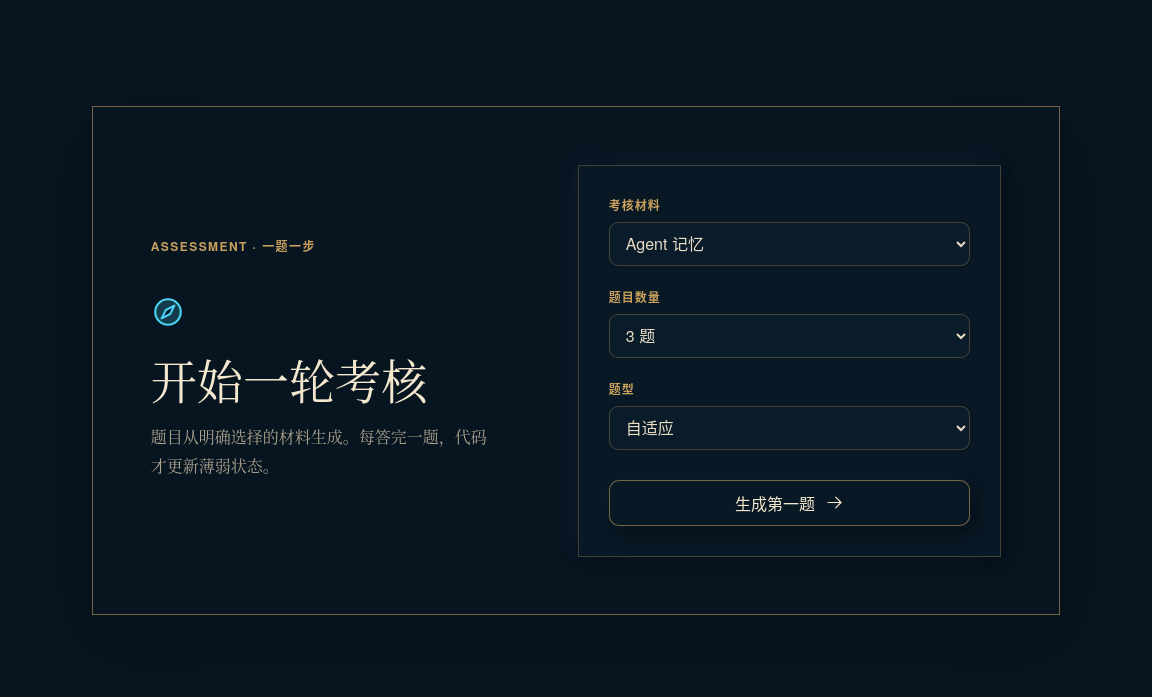
Test: Assessment Workspace › reveals grounded evidence and completes one question
Expected: the heading "开始一轮考核" is shown, top-left (151, 346), bottom-right (427, 412)
Click the button "生成第一题" at [790, 503], box top-left (609, 480), bottom-right (970, 526)
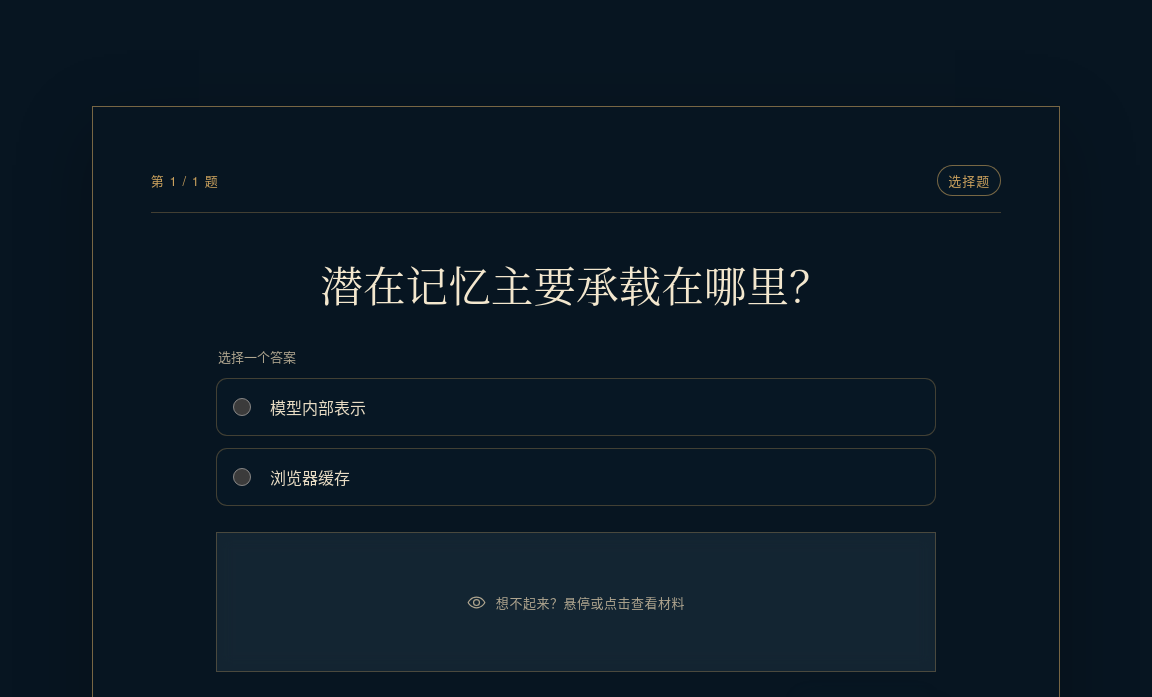
Now the heading "潜在记忆主要承载在哪里？" is shown, box top-left (320, 253), bottom-right (832, 314)
Hover over the button with aria-label "揭示本题材料证据" at [576, 602], box top-left (217, 533), bottom-right (935, 671)
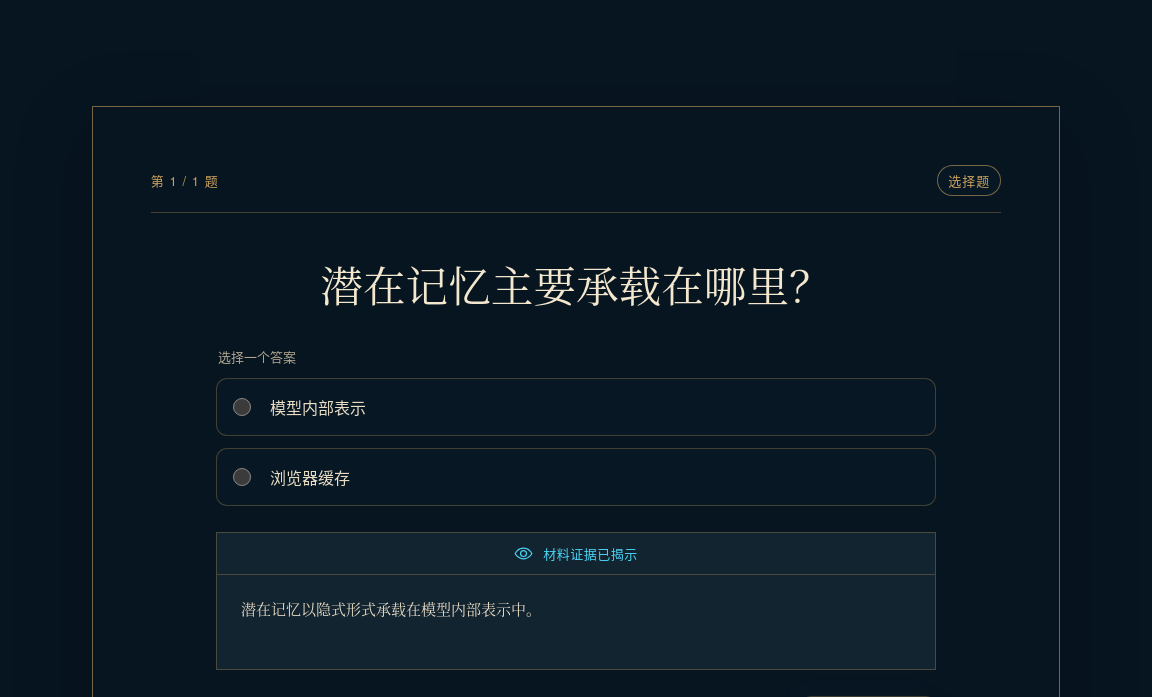
Now the text "潜在记忆以隐式形式承载在模型内部表示中。" is shown, box top-left (241, 598), bottom-right (541, 619)
Click the radio button labelled "模型内部表示" at [242, 407], box top-left (233, 398), bottom-right (251, 416)
(page scrolled)
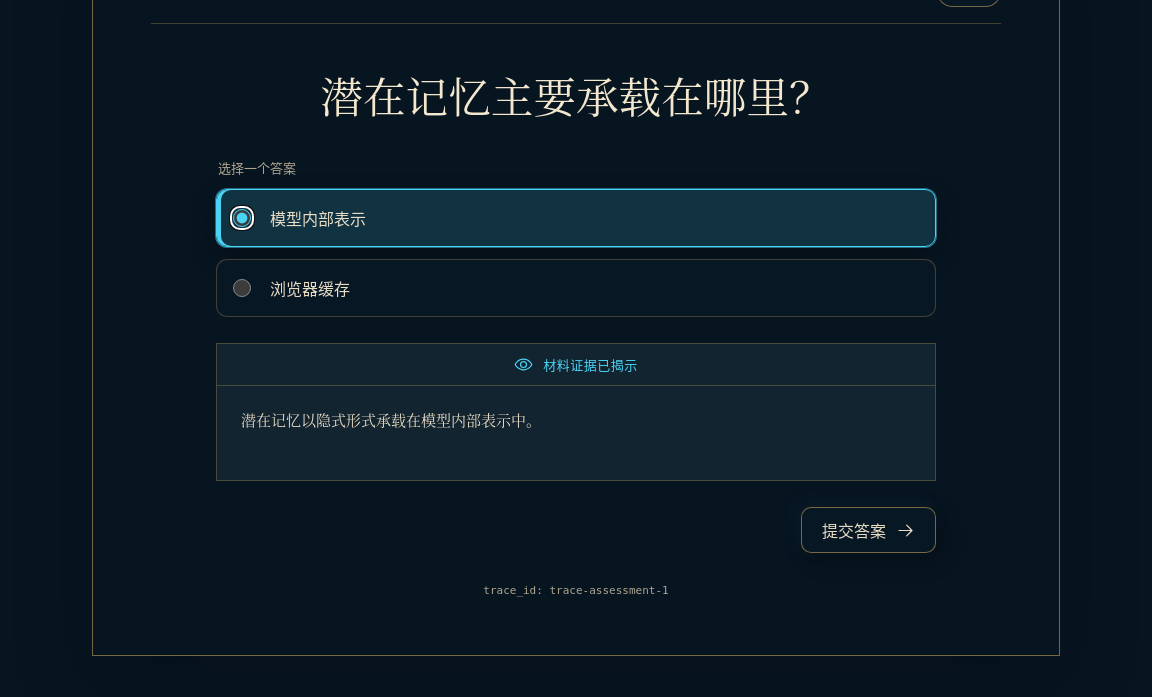
Click the button "提交答案" at [868, 530], box top-left (801, 507), bottom-right (936, 553)
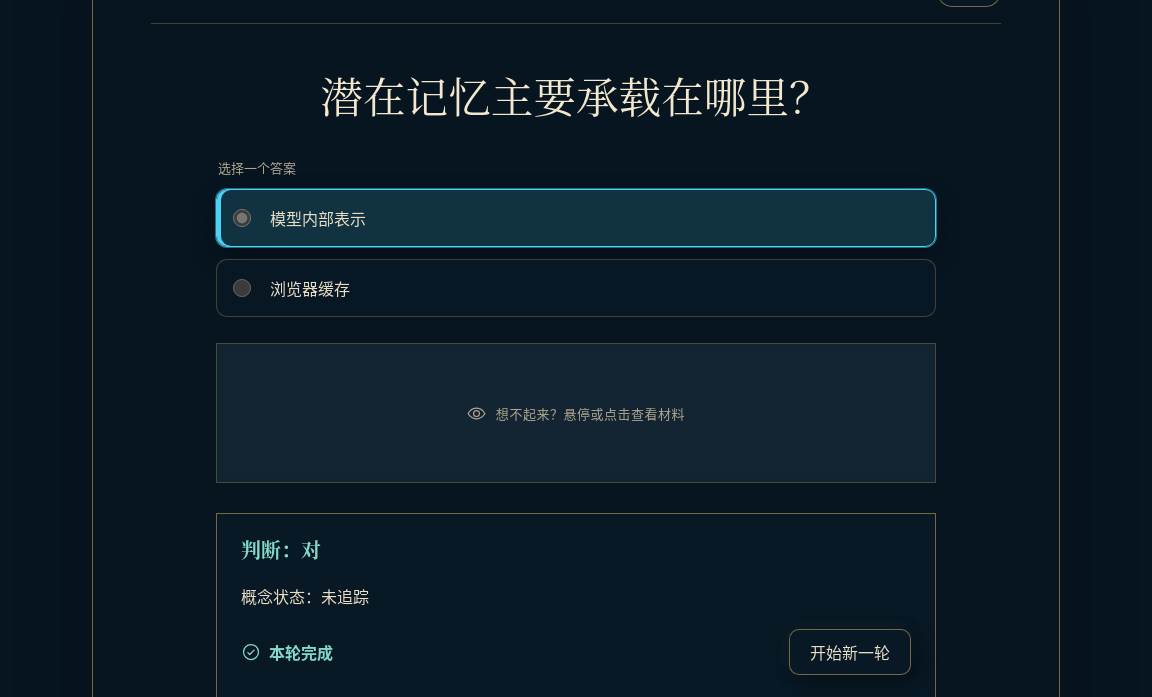
Now the text "判断：对" is shown, box top-left (241, 535), bottom-right (321, 564)
Now the text "本轮完成" is shown, box top-left (241, 640), bottom-right (333, 664)
Click the button "开始新一轮" at [850, 652], box top-left (789, 629), bottom-right (911, 675)
(page scrolled)
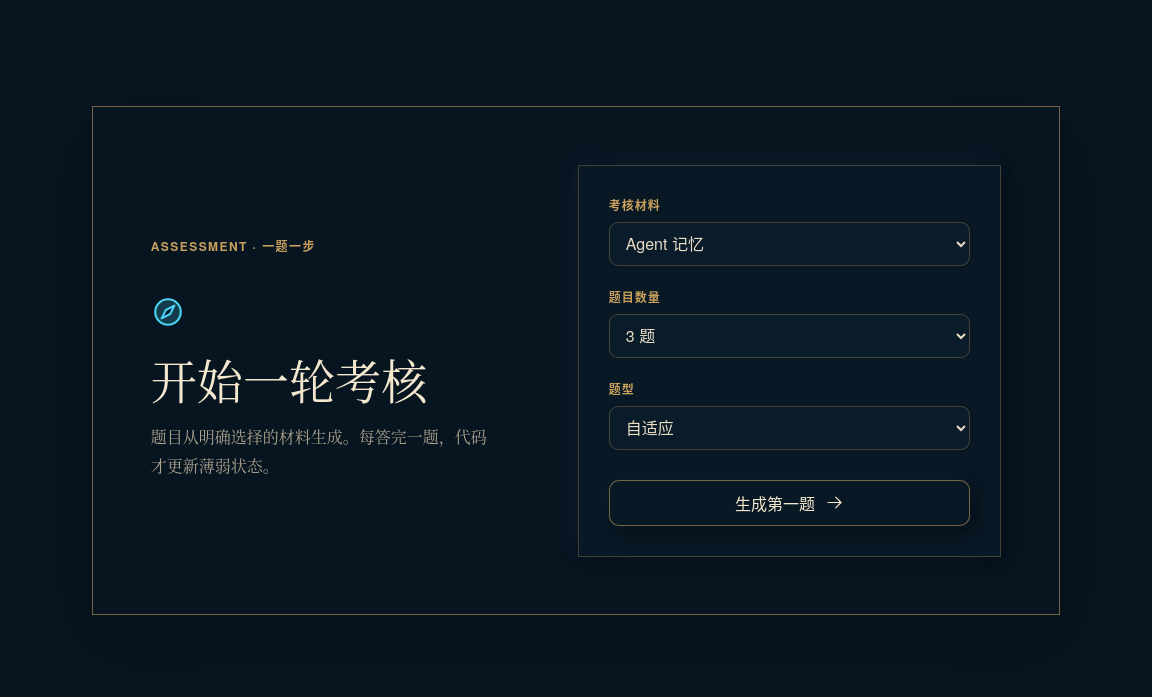
Now the heading "开始一轮考核" is shown, box top-left (151, 346), bottom-right (427, 412)
